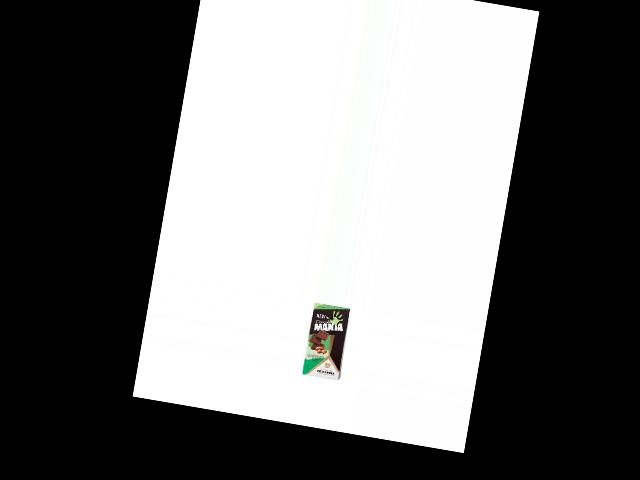chocolate: (300, 300, 352, 382)
